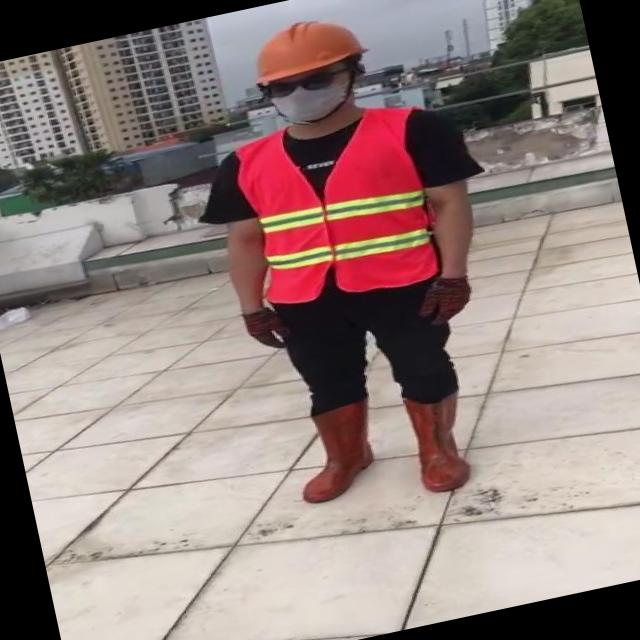hard_hat: (238, 8, 364, 85)
safety_vest: (230, 104, 446, 315)
vehicle: (164, 0, 544, 535)
work_boots: (286, 397, 390, 506), (400, 385, 477, 497)
